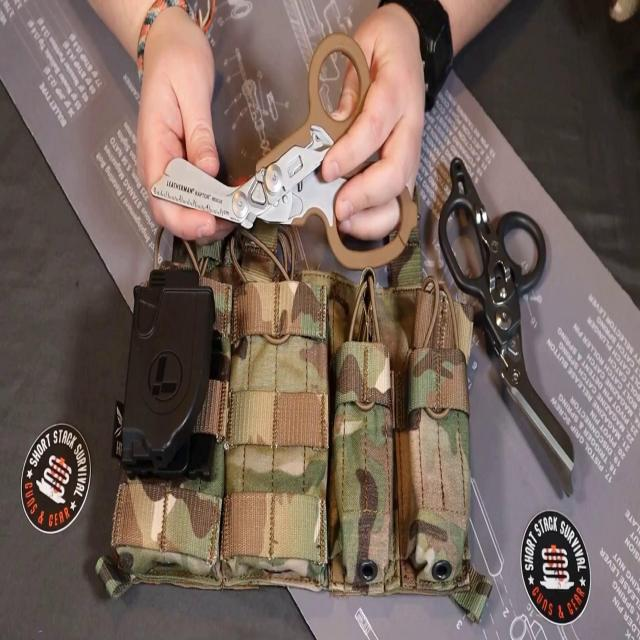scissor: (151, 27, 418, 268), (437, 154, 575, 502)
